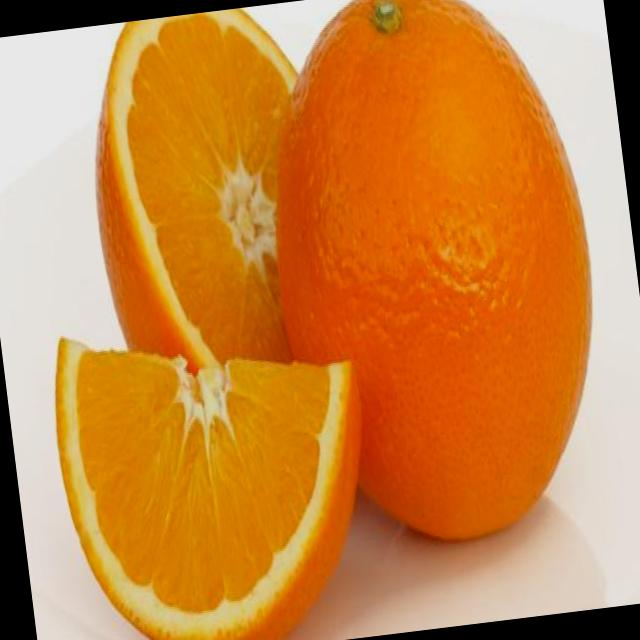orange: (234, 0, 632, 599)
